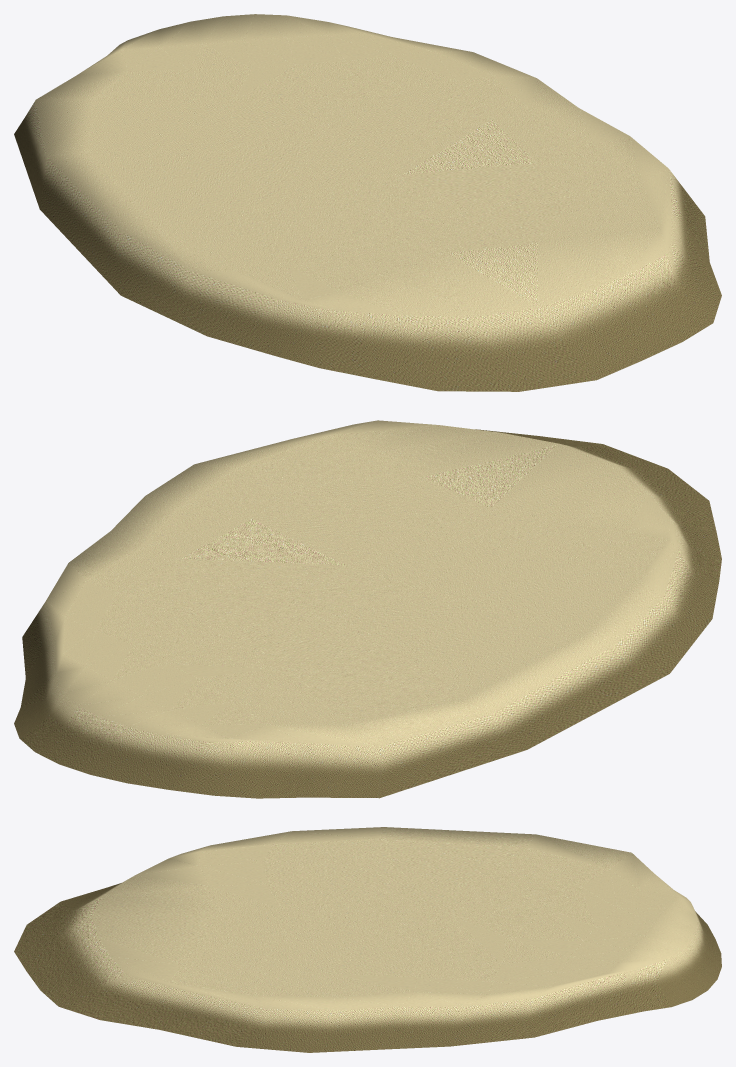
File: island4.fbx
The picture shows the model from 3 angles, top to bottom: view 1: azimuth 30°, elevation 25°; view 2: azimuth 150°, elevation 25°; view 3: azimuth 270°, elevation 25°; orthographic projection. The views are drawn at different scales.
Parts seen in each view (by area): view 1: Plane.005; view 2: Plane.005; view 3: Plane.005.
Boxes of the visible parts, x1,y1,x2,y2 form: Plane.005: (14,14,721,391); Plane.005: (14,420,721,798); Plane.005: (14,827,721,1052).
Size of the model in its own units: 2859 by 210 by 4123.
1 material, 1 textured.
